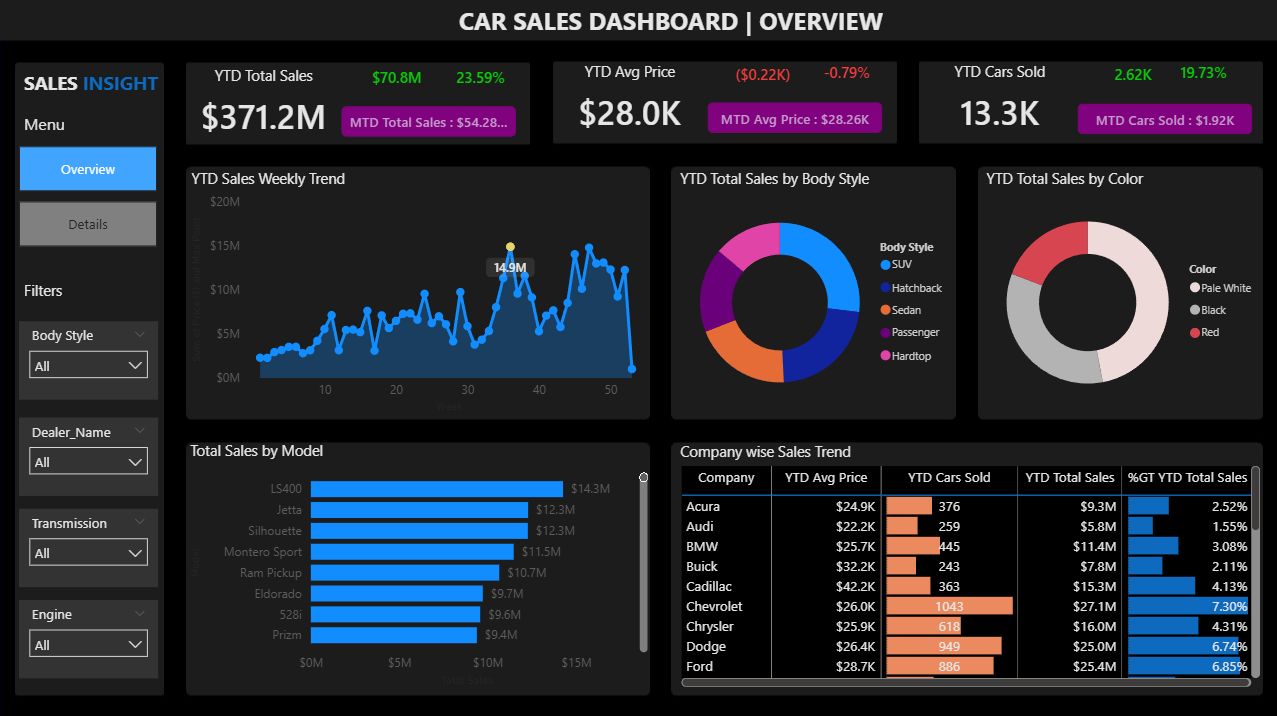

Layout of this report page (visuals, bound fields, positions):
{"tool":"powerbi","page":{"name":"Overview","canvas":[1280,720],"ordinal":0},"visuals":[{"type":"card","title":"YTD Total Sales","fields":{"Values":["car_data.YTD Total Sales"]},"box":[187.6,64.9,154.4,82.2],"z":0},{"type":"card","fields":{"Values":["car_data.Sales Difference"]},"box":[362.1,64.9,70.7,30.3],"z":1000},{"type":"card","fields":{"Values":["car_data.YOY Sales Growth"]},"box":[445.8,64.9,70.7,30.3],"z":2000},{"type":"card","fields":{"Values":["car_data.MTD KPI"]},"box":[341.9,106.8,174.6,30.3],"z":3000},{"type":"card","title":"YTD Avg Price","fields":{"Values":["car_data.YTD Avg Price"]},"box":[554.2,61.1,154.4,82.2],"z":4000},{"type":"card","fields":{"Values":["car_data.Avg Price diff"]},"box":[728.8,61.1,70.7,30.3],"z":5000},{"type":"card","fields":{"Values":["car_data.MTD Avg Price KPI"]},"box":[708.6,102.9,174.6,30.3],"z":6000},{"type":"card","fields":{"Values":["car_data.YOY Avg Price Growth"]},"box":[812.3,60.6,70.7,30.3],"z":7000},{"type":"card","title":"YTD Cars Sold","fields":{"Values":["car_data.YTD Cars Sold"]},"box":[924,61.4,154.4,82.2],"z":8000},{"type":"card","fields":{"Values":["car_data.Cars Sold Diff"]},"box":[1098.6,61.4,70.7,30.3],"z":9000},{"type":"card","fields":{"Values":["car_data.MTD Cars Sold KPI"]},"box":[1078.4,103.3,174.6,30.3],"z":10000},{"type":"card","fields":{"Values":["car_data.YOY Cars Sold Growth"]},"box":[1169.6,60.4,69.4,30.2],"z":11000},{"type":"areaChart","title":"YTD Sales Weekly Trend","fields":{"Category":["Calendar Table.Week"],"Y":["Sum(car_data.Price ($))","car_data.Max Point"]},"box":[187.1,167.5,467.8,250.5],"z":12000},{"type":"donutChart","fields":{"Category":["car_data.Body Style"],"Y":["car_data.YTD Total Sales"]},"box":[676.1,167.5,280.7,250.5],"z":13000},{"type":"donutChart","fields":{"Y":["car_data.YTD Total Sales"],"Category":["car_data.Color"]},"box":[982.4,167.5,283.7,250.5],"z":14000},{"type":"tableEx","title":"Company wise Sales Trend","fields":{"Values":["car_data.Company","car_data.YTD Avg Price","car_data.YTD Cars Sold","car_data.YTD Total Sales1","car_data.YTD Total Sales"]},"box":[676.1,440.7,590.1,250.5],"z":15000},{"type":"barChart","fields":{"Category":["car_data.Model"],"Y":["car_data.Total Sales"]},"box":[186.6,440.3,467.7,251.3],"z":16000},{"type":"textbox","box":[455.3,0,483.9,52.2],"z":17000},{"type":"slicer","fields":{"Values":["car_data.Body Style"]},"box":[19.6,321.4,138.8,78.5],"z":18000},{"type":"slicer","fields":{"Values":["car_data.Dealer_Name"]},"box":[19.6,418,138.8,78.5],"z":19000},{"type":"slicer","fields":{"Values":["car_data.Engine"]},"box":[19.6,600.6,138.8,78.5],"z":20000},{"type":"slicer","fields":{"Values":["car_data.Transmission"]},"box":[19.6,508.6,138.8,78.5],"z":21000},{"type":"textbox","box":[19.6,274.7,138.8,31.7],"z":22000},{"type":"textbox","box":[19.9,64.7,154.2,53.5],"z":23000},{"type":"textbox","box":[19.9,107,77.1,39.8],"z":24000},{"type":"pageNavigator","box":[19.6,146.4,138.8,101.1],"z":25000}]}

Visuals, with their boxes in screenshot pixels (x1, y1, x2, y2), scaled from the page's 1280x720 canvas onto the 1277x716 screenshot:
"YTD Total Sales" card: rect(187, 65, 341, 146)
card - car_data.Sales Difference: rect(361, 65, 432, 95)
card - car_data.YOY Sales Growth: rect(445, 65, 515, 95)
card - car_data.MTD KPI: rect(341, 106, 515, 136)
"YTD Avg Price" card: rect(553, 61, 707, 143)
card - car_data.Avg Price diff: rect(727, 61, 798, 91)
card - car_data.MTD Avg Price KPI: rect(707, 102, 881, 132)
card - car_data.YOY Avg Price Growth: rect(810, 60, 881, 90)
"YTD Cars Sold" card: rect(922, 61, 1076, 143)
card - car_data.Cars Sold Diff: rect(1096, 61, 1167, 91)
card - car_data.MTD Cars Sold KPI: rect(1076, 103, 1250, 133)
card - car_data.YOY Cars Sold Growth: rect(1167, 60, 1236, 90)
"YTD Sales Weekly Trend" areaChart: rect(187, 167, 653, 416)
donutChart - car_data.Body Style x car_data.YTD Total Sales: rect(675, 167, 955, 416)
donutChart - car_data.YTD Total Sales x car_data.Color: rect(980, 167, 1263, 416)
"Company wise Sales Trend" tableEx: rect(675, 438, 1263, 687)
barChart - car_data.Model x car_data.Total Sales: rect(186, 438, 653, 688)
textbox: rect(454, 0, 937, 52)
slicer - car_data.Body Style: rect(20, 320, 158, 398)
slicer - car_data.Dealer_Name: rect(20, 416, 158, 494)
slicer - car_data.Engine: rect(20, 597, 158, 675)
slicer - car_data.Transmission: rect(20, 506, 158, 584)
textbox: rect(20, 273, 158, 305)
textbox: rect(20, 64, 174, 118)
textbox: rect(20, 106, 97, 146)
pageNavigator: rect(20, 146, 158, 246)
